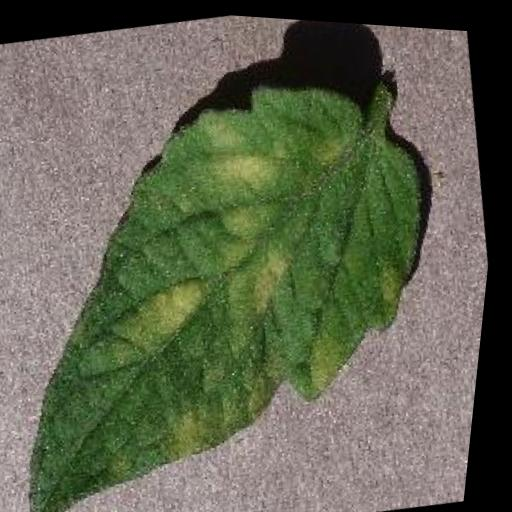Leaf Mold: (0, 38, 488, 512)
